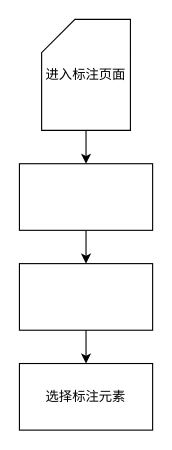
Image size: 172x450. Some labels were removed from this diagram. The centre of each missing label's shape, as x and y in pixels:
添加标注: (85,296)
界面选取内容: (85,196)
